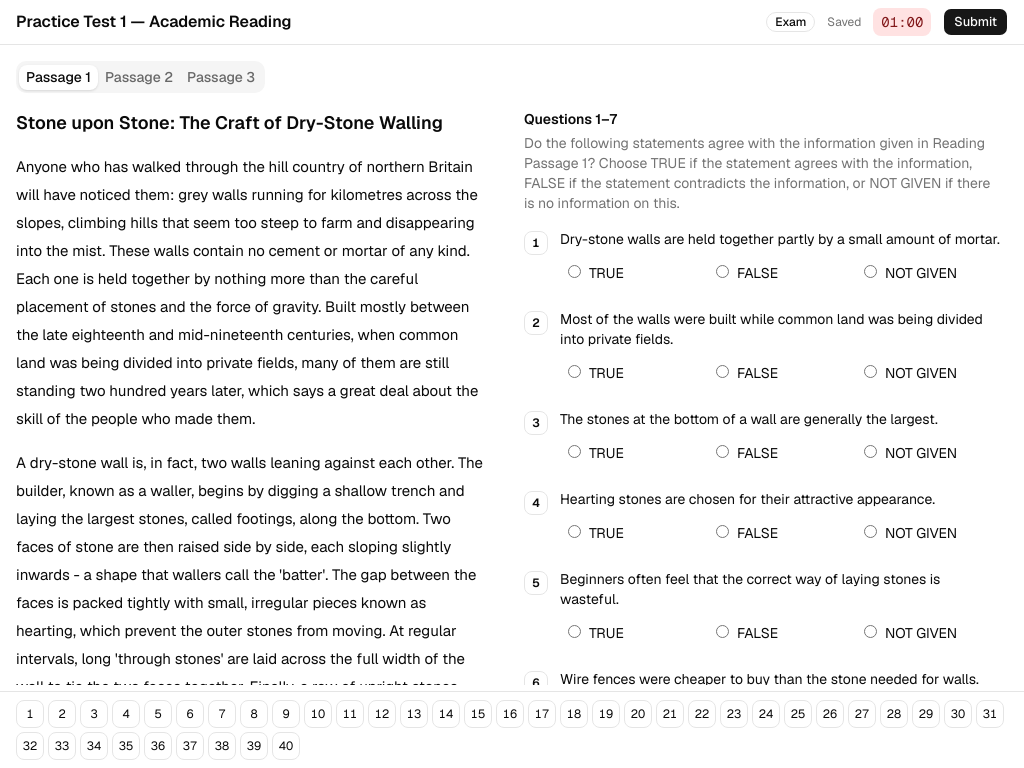
Scenario: late save shows time's up
The image size is (1024, 768).
Click the 1st radio button labelled "TRUE" at (574, 272), box [568,265,581,278]
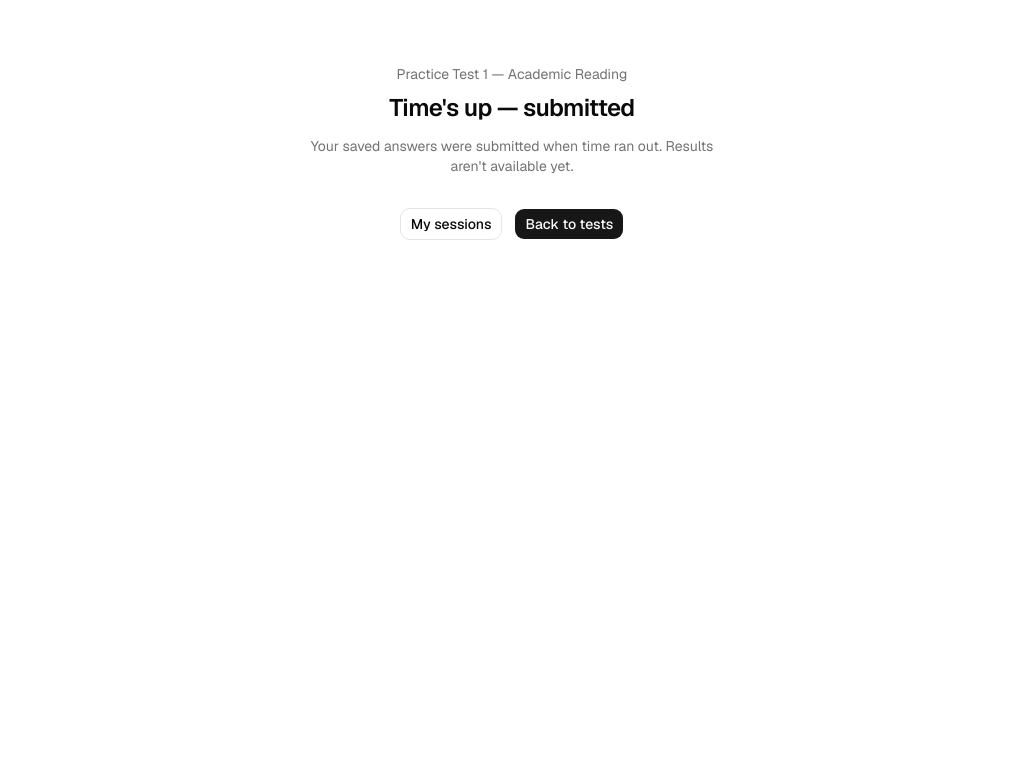
Now the heading "Time's up — submitted" is shown, box [389,92,635,123]
